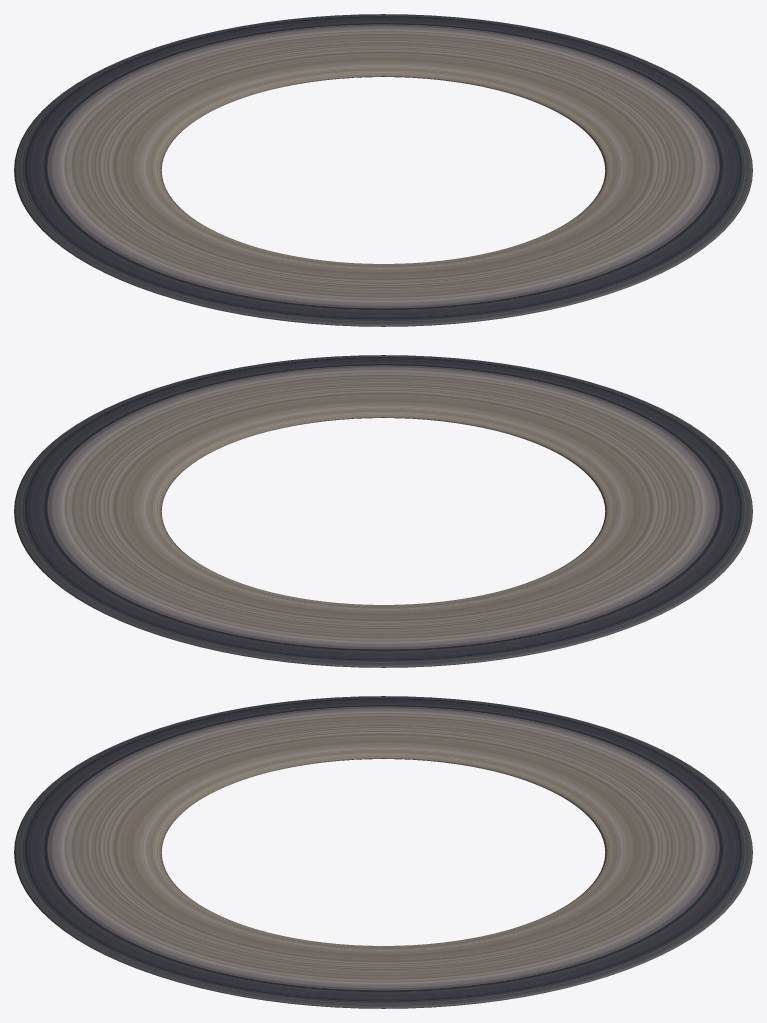
The model's file is SaturnRing.fbx.
3 views of the same model, one above another, from view 1: azimuth 30°, elevation 25°; view 2: azimuth 150°, elevation 25°; view 3: azimuth 270°, elevation 25° (orthographic).
Parts seen in each view (by area): view 1: Torus; view 2: Torus; view 3: Torus.
Part boxes in pixels (x1,y1,x2,y2): Torus: (14, 14, 752, 326); Torus: (14, 355, 752, 667); Torus: (14, 696, 752, 1008).
Bounding box in the file's own units: 250 × 3.68 × 250.
Materials: 1 (1 with a texture image).
